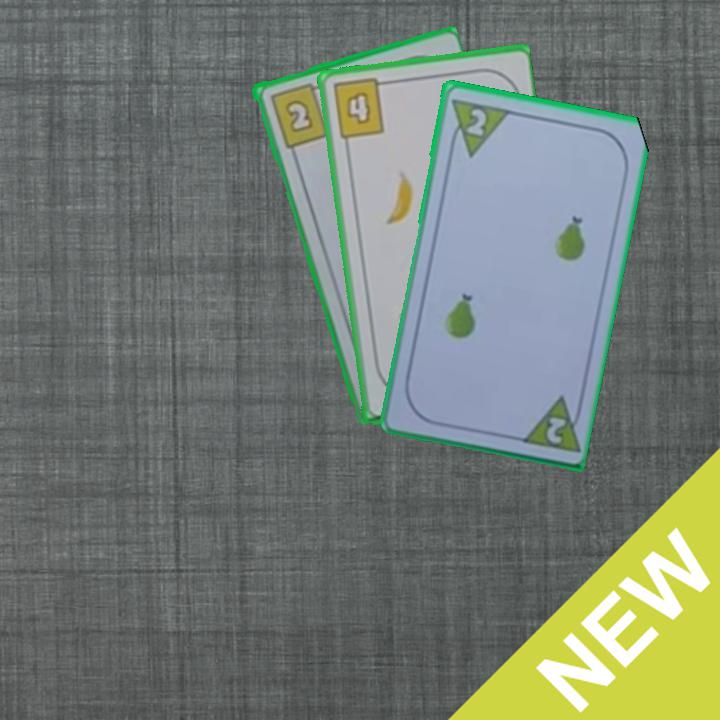2b: (266, 79, 331, 151)
2p: (445, 94, 512, 159), (542, 412, 569, 447)
4b: (329, 75, 391, 141)
